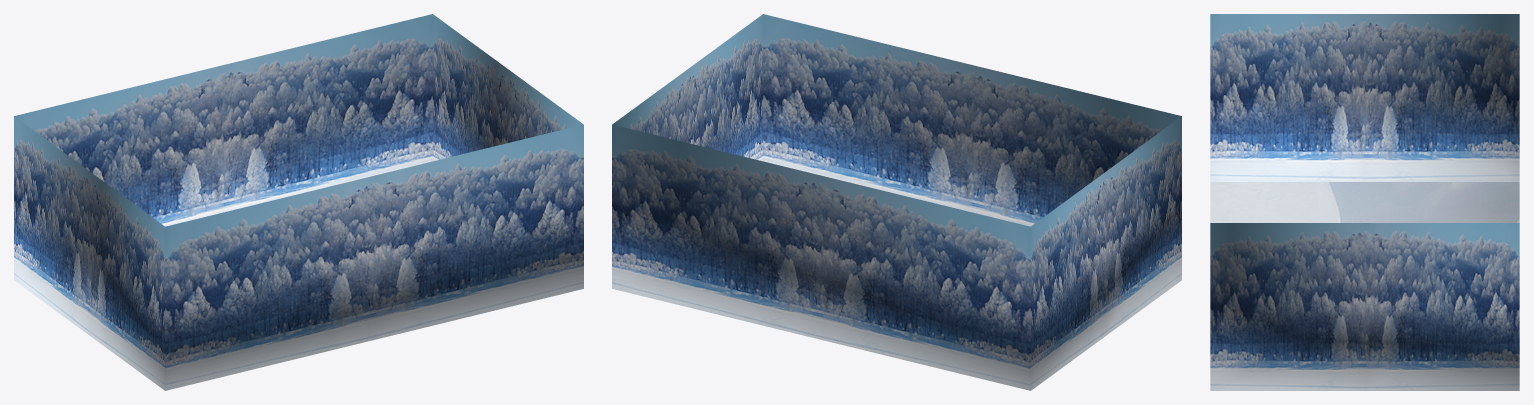
File: snow_scene_01.fbx
3 renders of one model, left to right at view 1: azimuth 30°, elevation 25°; view 2: azimuth 150°, elevation 25°; view 3: azimuth 270°, elevation 25°, orthographic. The views are drawn at different scales.
Parts seen in each view (by area): view 1: polySurface1; view 2: polySurface1; view 3: polySurface1.
Boxes of the visible parts, x1=… form: polySurface1: x1=14, y1=14, x2=583, y2=390; polySurface1: x1=612, y1=14, x2=1181, y2=390; polySurface1: x1=1210, y1=14, x2=1519, y2=390.
Bounding box in the file's own units: 400000 × 150000 × 250000.
